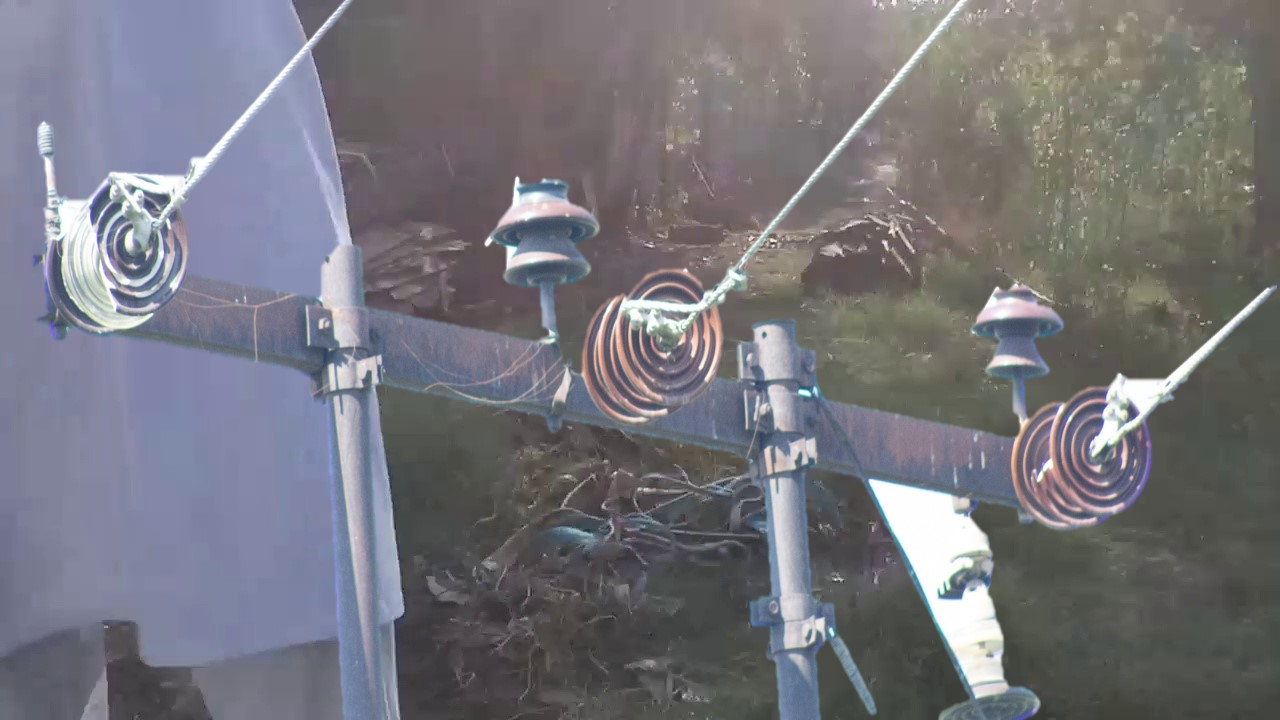defect_disc: (85, 176, 195, 317)
insulator_disc: (614, 263, 722, 413), (1046, 381, 1159, 521)
